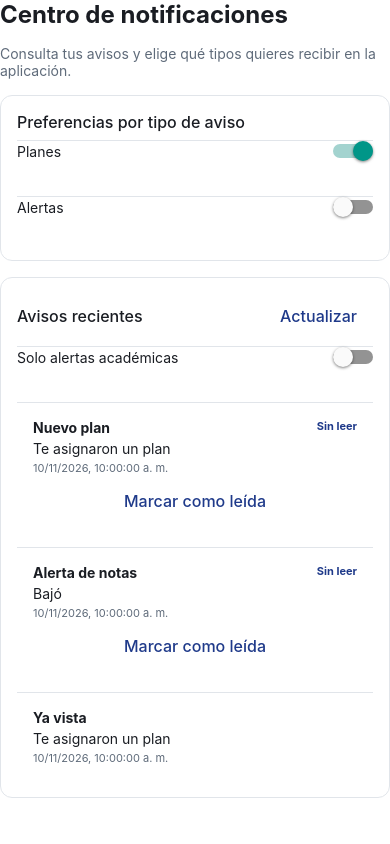
Test case: el filtro «solo alertas» oculta los demás avisos
Expected: the text "Nuevo plan" is shown, [33,419,110,436]
Click the switch named "Solo alertas académicas": (353, 357) [333,347,373,367]
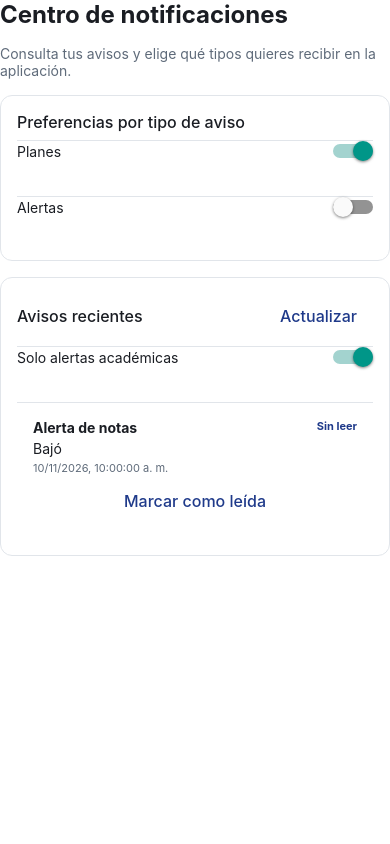
Expected: the text "Alerta de notas" is shown, [33,419,137,436]
Now the text "Nuevo plan" is gone
